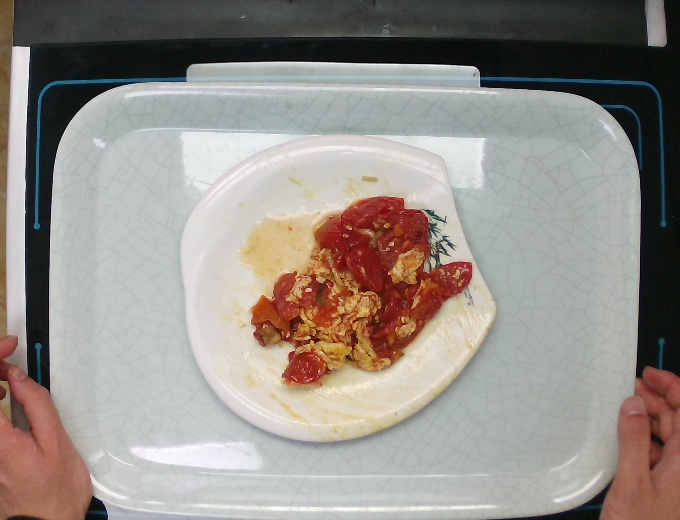JYsf-Mian_Pan: (173, 128, 499, 445)
